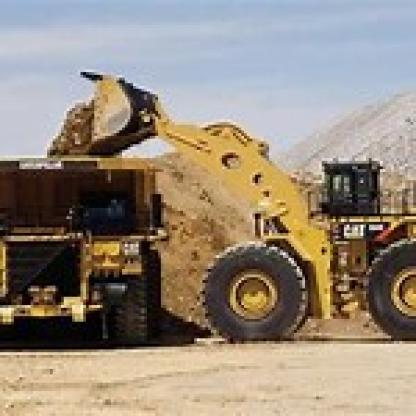bull_dozer/loader/grader: (75, 64, 413, 355)
